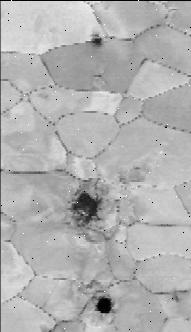good_void: (58, 183, 114, 229), (91, 288, 121, 318), (119, 162, 148, 188), (75, 275, 99, 294), (90, 65, 107, 84), (86, 34, 106, 45), (167, 290, 181, 305)
